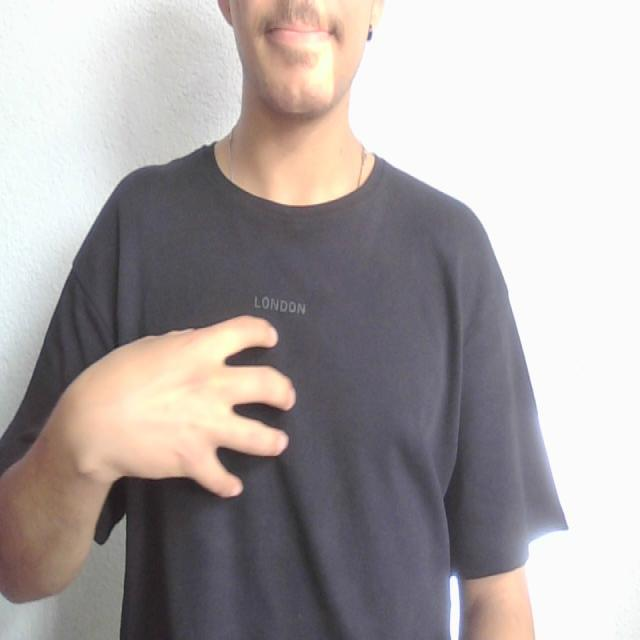Anne: (74, 300, 472, 513)
